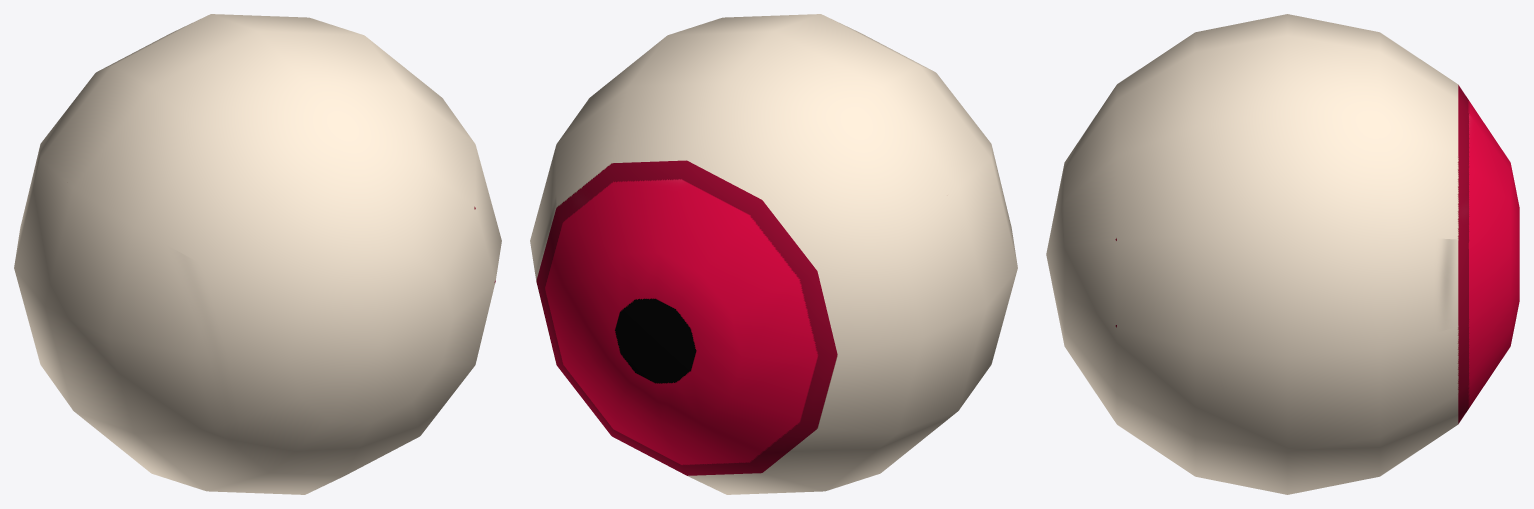
Rendered from eyeguy.glb.
The picture shows the model from 3 angles, left to right: view 1: azimuth 30°, elevation 25°; view 2: azimuth 150°, elevation 25°; view 3: azimuth 270°, elevation 25°; orthographic projection.
Parts seen in each view (by area): view 1: Sphere; view 2: Sphere; view 3: Sphere.
Part boxes in pixels (x1=…): Sphere: x1=14, y1=14, x2=501, y2=494; Sphere: x1=530, y1=14, x2=1017, y2=494; Sphere: x1=1046, y1=14, x2=1519, y2=494.
Bounding box in the file's own units: 2 × 2 × 1.96.
1 material, 1 textured.
